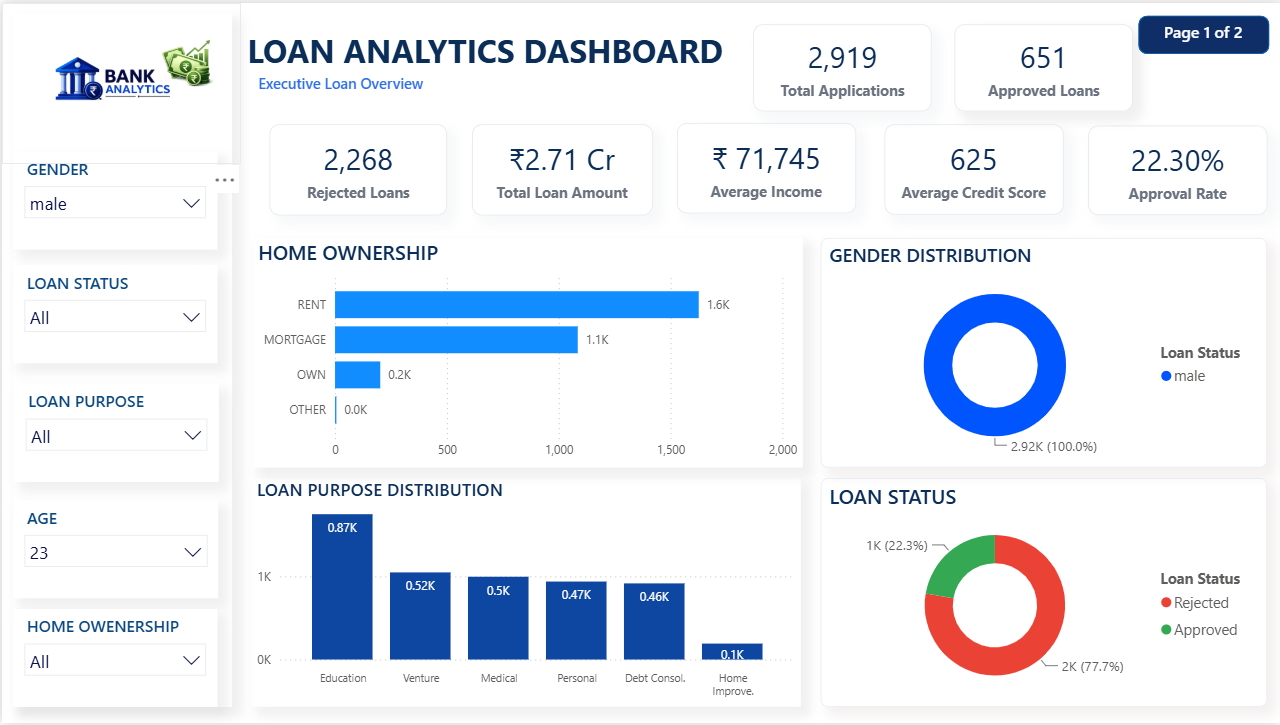

What the dashboard file says about the page in this screenshot:
{"tool":"powerbi","page":{"name":"Page 1","canvas":[1280,720],"ordinal":0},"visuals":[{"type":"textbox","box":[215.6,20.8,536.4,55.8],"z":0},{"type":"textbox","box":[250.9,65.1,299.2,31.4],"z":1000},{"type":"card","title":"Total Applicants","fields":{"Values":["loan_data (1).Total Applications"]},"box":[751.2,21.2,178.8,87.5],"z":2000},{"type":"card","title":"Total Applicants","fields":{"Values":["loan_data (1).Approval Rate"]},"box":[1085.7,122.1,179.2,89.6],"z":3000},{"type":"card","title":"Total Applicants","fields":{"Values":["loan_data (1).Approved Loans"]},"box":[952.5,21.2,178.8,87.5],"z":4000},{"type":"card","title":"Total Applicants","fields":{"Values":["loan_data (1).Average Income"]},"box":[675,120.5,178.9,90.1],"z":5000},{"type":"card","title":"Total Applicants","fields":{"Values":["loan_data (1).Total Loan Amountt"]},"box":[470.1,120.8,180.5,90.9],"z":6000},{"type":"card","title":"Total Applicants","fields":{"Values":["loan_data (1).Rejected Loans"]},"box":[267.5,120.8,177.9,90.9],"z":7000},{"type":"card","title":"Total Applicants","fields":{"Values":["loan_data (1).Average Credit Score"]},"box":[883.1,121.8,178.9,90.1],"z":8000},{"type":"donutChart","title":"LOAN STATUS","fields":{"Y":["CountNonNull(loan_data (1).loan_status)"],"Category":["loan_data (1).Loan Status Name"]},"box":[818.2,475.3,446.8,228.6],"z":9000},{"type":"clusteredColumnChart","title":"LOAN PURPOSE DISTRIBUTION","fields":{"Y":["CountNonNull(loan_data (1).loan_intent)"],"Category":["loan_data (1).Loan Purpose Display"]},"box":[250,475,548.8,228.8],"z":10000},{"type":"clusteredBarChart","title":"HOME OWNERSHIP","fields":{"Category":["loan_data (1).person_home_ownership"],"Y":["CountNonNull(loan_data (1).person_home_ownership)"]},"box":[250.6,235.1,549.4,229.9],"z":11000},{"type":"donutChart","title":"GENDER DISTRIBUTION","fields":{"Y":["CountNonNull(loan_data (1).person_gender)"],"Category":["loan_data (1).person_gender"]},"box":[818.2,235.1,446.8,229.9],"z":12000},{"type":"shape","box":[11.7,10.4,219.5,693.5],"z":13000},{"type":"slicer","fields":{"Values":["loan_data (1).person_gender"]},"box":[11.2,148.8,203.8,97.5],"z":14000},{"type":"slicer","fields":{"Values":["loan_data (1).Loan Purpose Display"]},"box":[12.5,381.2,203.8,97.5],"z":15000},{"type":"slicer","fields":{"Values":["loan_data (1).Loan Status Name"]},"box":[11.2,262.5,203.8,97.5],"z":16000},{"type":"slicer","fields":{"Values":["loan_data (1).person_age"]},"box":[11.2,497.5,205,97.5],"z":17000},{"type":"slicer","fields":{"Values":["loan_data (1).person_home_ownership"]},"box":[11.2,606.2,203.8,97.5],"z":18000},{"type":"image","box":[0,0,239,161],"z":19000},{"type":"shape","title":"Page 2 of 2","box":[1136.2,12.5,131.2,38.8],"z":20000},{"type":"textbox","box":[1152.5,12.5,115,40],"z":21000}]}

Visuals, with their boxes in screenshot pixels (x1, y1, x2, y2), scaled from the page's 1280x720 canvas onto the 1280x725 screenshot:
textbox: left=216, top=21, right=752, bottom=77
textbox: left=251, top=66, right=550, bottom=97
"Total Applicants" card: left=751, top=21, right=930, bottom=109
"Total Applicants" card: left=1086, top=123, right=1265, bottom=213
"Total Applicants" card: left=952, top=21, right=1131, bottom=109
"Total Applicants" card: left=675, top=121, right=854, bottom=212
"Total Applicants" card: left=470, top=122, right=651, bottom=213
"Total Applicants" card: left=268, top=122, right=445, bottom=213
"Total Applicants" card: left=883, top=123, right=1062, bottom=213
"LOAN STATUS" donutChart: left=818, top=479, right=1265, bottom=709
"LOAN PURPOSE DISTRIBUTION" clusteredColumnChart: left=250, top=478, right=799, bottom=709
"HOME OWNERSHIP" clusteredBarChart: left=251, top=237, right=800, bottom=468
"GENDER DISTRIBUTION" donutChart: left=818, top=237, right=1265, bottom=468
shape: left=12, top=10, right=231, bottom=709
slicer - loan_data (1).person_gender: left=11, top=150, right=215, bottom=248
slicer - loan_data (1).Loan Purpose Display: left=12, top=384, right=216, bottom=482
slicer - loan_data (1).Loan Status Name: left=11, top=264, right=215, bottom=362
slicer - loan_data (1).person_age: left=11, top=501, right=216, bottom=599
slicer - loan_data (1).person_home_ownership: left=11, top=610, right=215, bottom=709
image: left=0, top=0, right=239, bottom=162
"Page 2 of 2" shape: left=1136, top=13, right=1267, bottom=52
textbox: left=1152, top=13, right=1268, bottom=53
